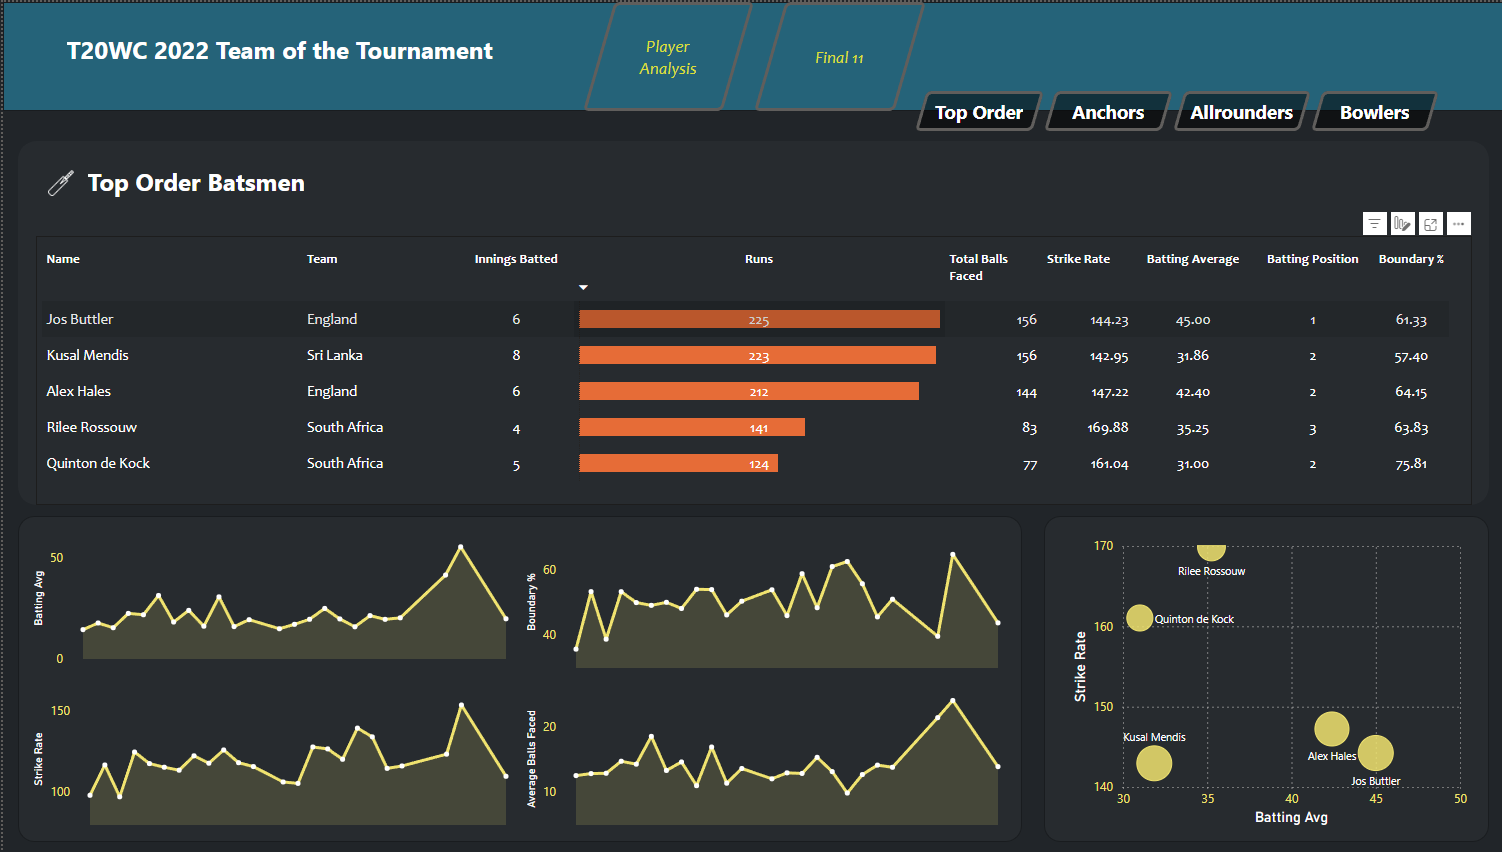

This screenshot's page, from the dashboard's own definition file:
{"tool":"powerbi","page":{"name":"Top Order Batsmen","canvas":[1500,850],"ordinal":0},"visuals":[{"type":"shape","box":[15,138.8,1471.2,363.8],"z":0},{"type":"lineChart","fields":{"Y":["Key_Measures.Batting Avg"],"Category":["match_summary.matchDate.Variation.Date Hierarchy.Year","match_summary.matchDate.Variation.Date Hierarchy.Quarter","match_summary.matchDate.Variation.Date Hierarchy.Month","match_summary.matchDate.Variation.Date Hierarchy.Day"]},"box":[25,521.2,485,150],"z":1000},{"type":"shape","box":[15,513.8,1003.8,326.2],"z":2000},{"type":"areaChart","fields":{"Category":["match_summary.matchDate.Variation.Date Hierarchy.Year","match_summary.matchDate.Variation.Date Hierarchy.Quarter","match_summary.matchDate.Variation.Date Hierarchy.Month","match_summary.matchDate.Variation.Date Hierarchy.Day"],"Y":["Key_Measures.Batting Avg"]},"box":[25,521.2,492.5,150],"z":3000},{"type":"shape","box":[1041.2,513.8,445,326.2],"z":4000},{"type":"shape","box":[0,0,1500,108.8],"z":5000},{"type":"image","box":[36.2,162.5,43.8,36.2],"z":6000},{"type":"textbox","box":[80,157.5,236.9,47.5],"z":7000},{"type":"actionButton","box":[912.2,88.9,128.9,40],"z":8000},{"type":"actionButton","box":[1041.1,88.9,128.9,40],"z":9000},{"type":"actionButton","box":[1170,88.8,137.5,40],"z":10000},{"type":"actionButton","box":[1307.5,88.8,128.8,40],"z":11000},{"type":"tableEx","fields":{"Values":["players_info.Name","players_info.Team","Key_Measures.Total Matches","Key_Measures.Total Runs","Key_Measures.Total Balls Faced","Key_Measures.Strike Rate","Key_Measures.Bat Avg","Key_Measures.Batting Position","Key_Measures.Boundary %"]},"box":[32.5,233.8,1436.2,268.8],"z":12000},{"type":"areaChart","fields":{"Category":["match_summary.matchDate.Variation.Date Hierarchy.Year","match_summary.matchDate.Variation.Date Hierarchy.Quarter","match_summary.matchDate.Variation.Date Hierarchy.Month","match_summary.matchDate.Variation.Date Hierarchy.Day"],"Y":["Key_Measures.Strike Rate"]},"box":[25,677.5,492.5,150],"z":13000},{"type":"areaChart","fields":{"Category":["match_summary.matchDate.Variation.Date Hierarchy.Year","match_summary.matchDate.Variation.Date Hierarchy.Quarter","match_summary.matchDate.Variation.Date Hierarchy.Month","match_summary.matchDate.Variation.Date Hierarchy.Day"],"Y":["Key_Measures.Boundary %"]},"box":[517.5,521.2,492.5,150],"z":14000},{"type":"areaChart","fields":{"Category":["match_summary.matchDate.Variation.Date Hierarchy.Year","match_summary.matchDate.Variation.Date Hierarchy.Quarter","match_summary.matchDate.Variation.Date Hierarchy.Month","match_summary.matchDate.Variation.Date Hierarchy.Day"],"Y":["Key_Measures.Average Balls Faced"]},"box":[517.5,677.5,492.5,150],"z":15000},{"type":"scatterChart","fields":{"X":["Key_Measures.Batting Avg"],"Y":["Key_Measures.Strike Rate"],"Category":["players_info.Name"],"Size":["Key_Measures.Total Runs"]},"box":[1063.8,530,405,297.5],"z":16000},{"type":"textbox","box":[58.8,26.2,458.8,62.5],"z":17000},{"type":"actionButton","box":[580,0,171.2,108.8],"z":18000},{"type":"actionButton","box":[751.2,0,171.2,108.8],"z":19000}]}

Visuals, with their boxes in screenshot pixels (x1, y1, x2, y2), scaled from the page's 1500x850 canvas onto the 1502x852 screenshot:
shape: <bbox>15, 139, 1488, 504</bbox>
lineChart - Key_Measures.Batting Avg x match_summary.matchDate.Variation.Date Hierarchy.Year: <bbox>25, 522, 511, 673</bbox>
shape: <bbox>15, 515, 1020, 842</bbox>
areaChart - match_summary.matchDate.Variation.Date Hierarchy.Year x match_summary.matchDate.Variation.Date Hierarchy.Quarter: <bbox>25, 522, 518, 673</bbox>
shape: <bbox>1043, 515, 1488, 842</bbox>
shape: <bbox>0, 0, 1501, 109</bbox>
image: <bbox>36, 163, 80, 199</bbox>
textbox: <bbox>80, 158, 317, 205</bbox>
actionButton: <bbox>913, 89, 1042, 129</bbox>
actionButton: <bbox>1042, 89, 1172, 129</bbox>
actionButton: <bbox>1172, 89, 1309, 129</bbox>
actionButton: <bbox>1309, 89, 1438, 129</bbox>
tableEx - players_info.Name x players_info.Team: <bbox>33, 234, 1471, 504</bbox>
areaChart - match_summary.matchDate.Variation.Date Hierarchy.Year x match_summary.matchDate.Variation.Date Hierarchy.Quarter: <bbox>25, 679, 518, 829</bbox>
areaChart - match_summary.matchDate.Variation.Date Hierarchy.Year x match_summary.matchDate.Variation.Date Hierarchy.Quarter: <bbox>518, 522, 1011, 673</bbox>
areaChart - match_summary.matchDate.Variation.Date Hierarchy.Year x match_summary.matchDate.Variation.Date Hierarchy.Quarter: <bbox>518, 679, 1011, 829</bbox>
scatterChart - Key_Measures.Batting Avg x Key_Measures.Strike Rate: <bbox>1065, 531, 1471, 829</bbox>
textbox: <bbox>59, 26, 518, 89</bbox>
actionButton: <bbox>581, 0, 752, 109</bbox>
actionButton: <bbox>752, 0, 924, 109</bbox>
